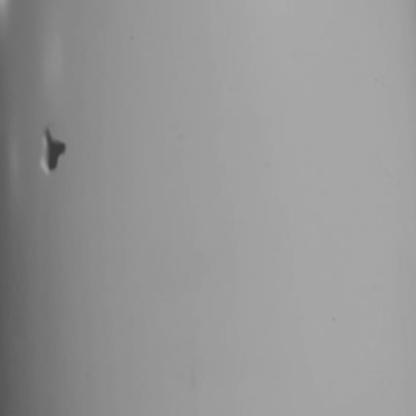kongdong: (25, 123, 73, 173)
